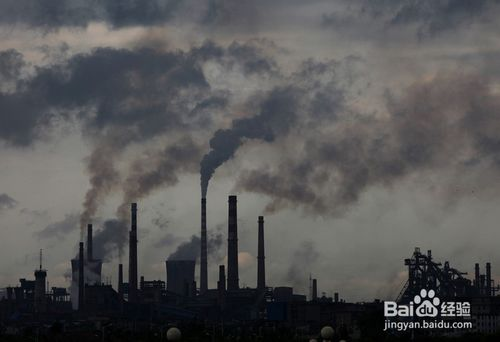dust: (191, 95, 278, 203), (62, 141, 120, 239), (46, 220, 140, 272), (106, 154, 179, 210), (153, 229, 225, 265)
